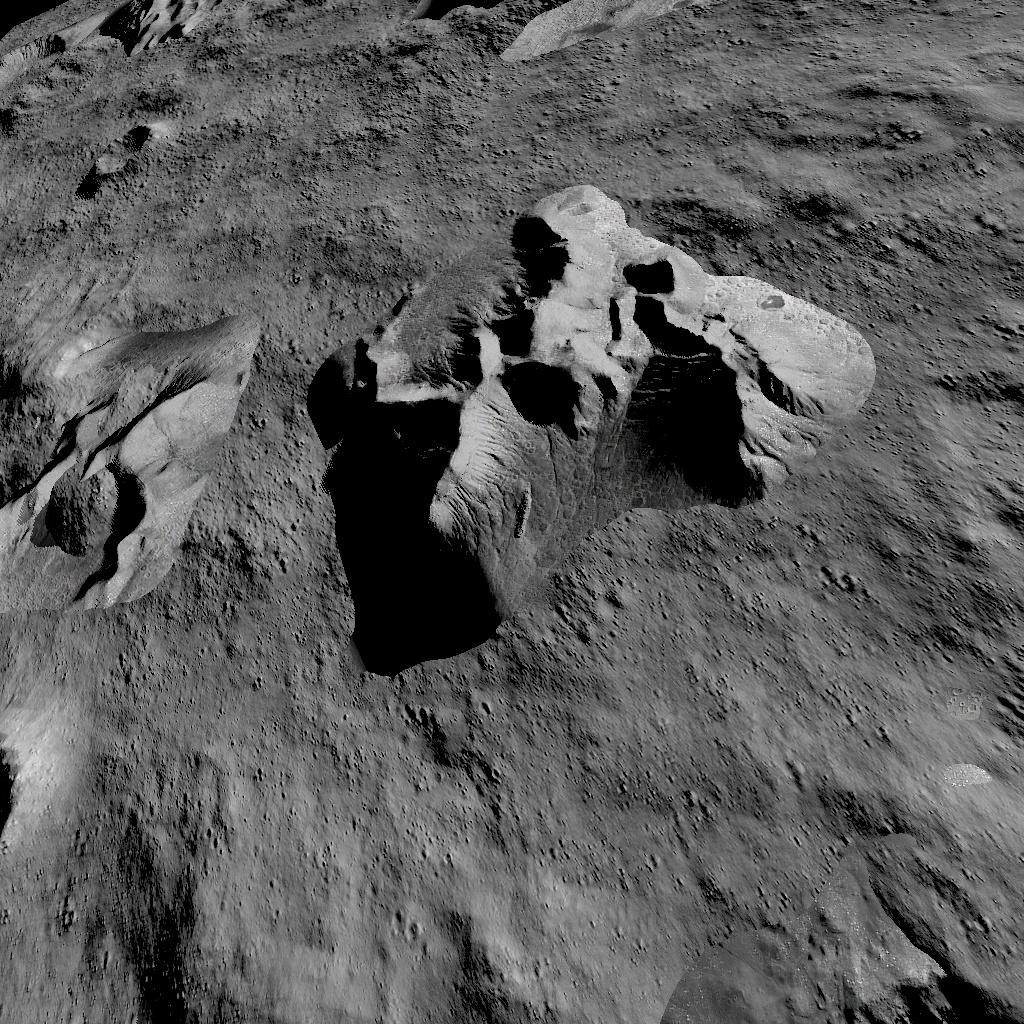Boulders: (293, 188, 881, 676), (420, 0, 698, 64), (103, 0, 238, 58)
Crater: (0, 337, 204, 597), (861, 965, 1024, 1024), (76, 114, 176, 195), (0, 24, 88, 106), (0, 736, 16, 850)
Plan surface: (68, 688, 796, 1024), (719, 0, 1024, 170), (828, 706, 1022, 926), (231, 80, 697, 165), (0, 214, 252, 322)
